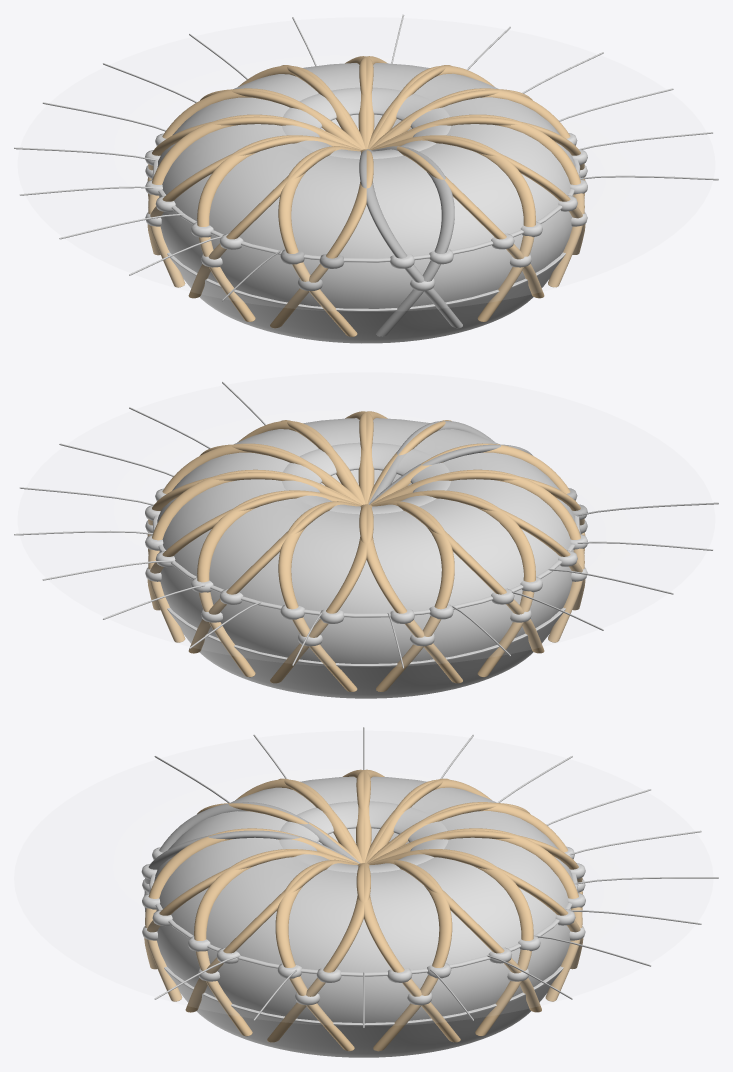
The model's file is CoreStation.fbx.
3 renders of one model, top to bottom at view 1: azimuth 30°, elevation 25°; view 2: azimuth 150°, elevation 25°; view 3: azimuth 270°, elevation 25°, orthographic.
Visible parts, largest first — view 1: polySurface31, polySurface4, polySurface30, pCylinder7 (×2), pCylinder8 (×2), pCylinder6 (×2), pCylinder9 (×2), pCylinder5 (×2), pCylinder4 (×2), pCylinder10 (×2), pCylinder11 (×2), pCylinder3 (×2) (+4 smaller); view 2: polySurface31, polySurface4, polySurface30, pCylinder3 (×2), pCylinder4 (×2), pCylinder2 (×2), pCylinder5 (×2), pCylinder13 (×2), pCylinder12 (×2), pCylinder6 (×2), pCylinder7 (×2), pCylinder11 (×2) (+4 smaller); view 3: polySurface31, polySurface4, polySurface30, pCylinder11 (×2), pCylinder12 (×2), pCylinder10 (×2), pCylinder9 (×2), pCylinder13 (×2), pCylinder8 (×2), pCylinder2 (×2), pCylinder7 (×2), pCylinder3 (×2) (+4 smaller).
Part boxes in pixels (x1,y1,x2,y2): polySurface31: (151, 63, 580, 308); polySurface4: (167, 252, 565, 343); polySurface30: (282, 87, 450, 158); pCylinder7 (×2): (278, 146, 454, 336); pCylinder8 (×2): (359, 135, 535, 328); pCylinder6 (×2): (197, 135, 373, 328); pCylinder9 (×2): (371, 114, 584, 298); pCylinder5 (×2): (148, 114, 361, 298); pCylinder4 (×2): (147, 88, 362, 255); pCylinder10 (×2): (370, 88, 585, 254); pCylinder11 (×2): (368, 65, 584, 170); pCylinder3 (×2): (148, 65, 364, 170); polySurface31: (152, 418, 580, 663); polySurface4: (167, 607, 565, 698); polySurface30: (282, 442, 450, 514); pCylinder3 (×2): (278, 501, 454, 691); pCylinder4 (×2): (359, 490, 535, 683); pCylinder2 (×2): (197, 490, 373, 683); pCylinder5 (×2): (371, 469, 584, 653); pCylinder13 (×2): (148, 469, 361, 653); pCylinder12 (×2): (147, 443, 362, 610); pCylinder6 (×2): (370, 443, 585, 610); pCylinder7 (×2): (368, 421, 584, 525); pCylinder11 (×2): (148, 421, 364, 525); polySurface31: (149, 776, 578, 1023); polySurface4: (164, 966, 563, 1057); polySurface30: (279, 801, 448, 872); pCylinder11 (×2): (275, 860, 452, 1051); pCylinder12 (×2): (356, 849, 533, 1042); pCylinder10 (×2): (194, 849, 370, 1042); pCylinder9 (×2): (145, 828, 358, 1012); pCylinder13 (×2): (368, 828, 582, 1012); pCylinder8 (×2): (144, 802, 359, 969); pCylinder2 (×2): (367, 802, 583, 969); pCylinder7 (×2): (145, 779, 361, 884); pCylinder3 (×2): (366, 779, 582, 882).
Bounding box in the file's own units: 113 × 27.48 × 112.
